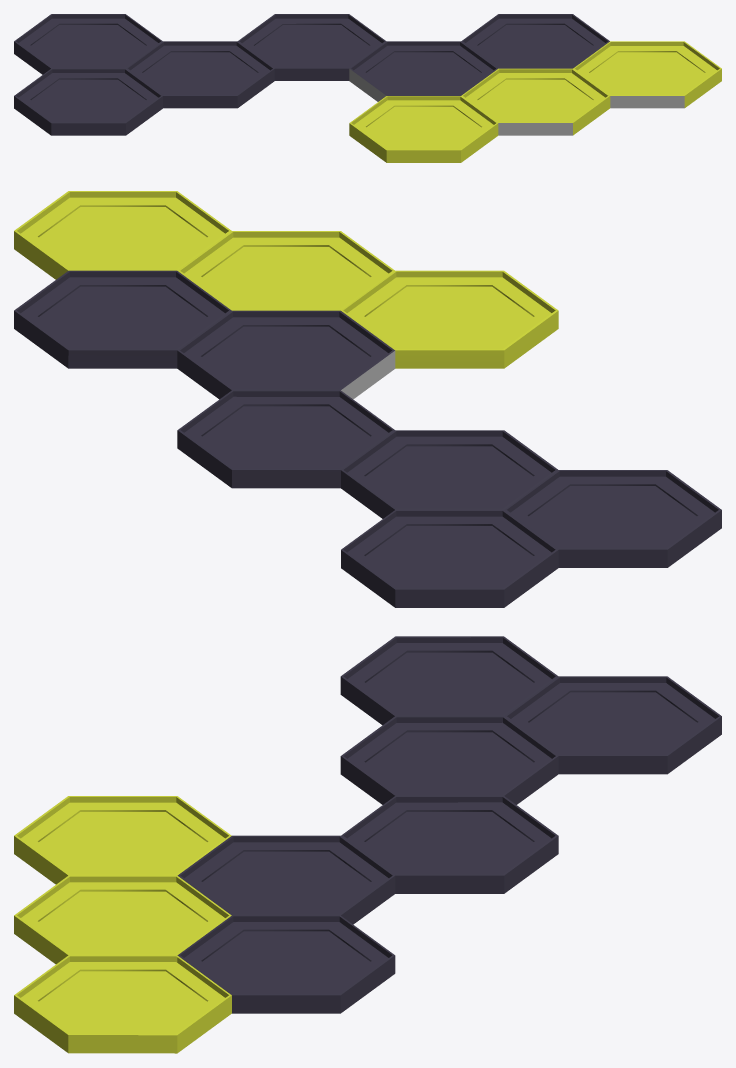
File: MoldInsertStage2_4.fbx
The picture shows the model from 3 angles, top to bottom: view 1: azimuth 30°, elevation 25°; view 2: azimuth 150°, elevation 25°; view 3: azimuth 270°, elevation 25°; orthographic projection. The views are drawn at different scales.
Visible parts, largest first — view 1: MoldInsertStage2_4; view 2: MoldInsertStage2_4; view 3: MoldInsertStage2_4.
Boxes of the visible parts, x1,y1,x2,y2 form: MoldInsertStage2_4: [14, 14, 721, 162]; MoldInsertStage2_4: [14, 191, 721, 607]; MoldInsertStage2_4: [14, 636, 721, 1053].
Size of the model in its own units: 910 by 19.73 by 683.
